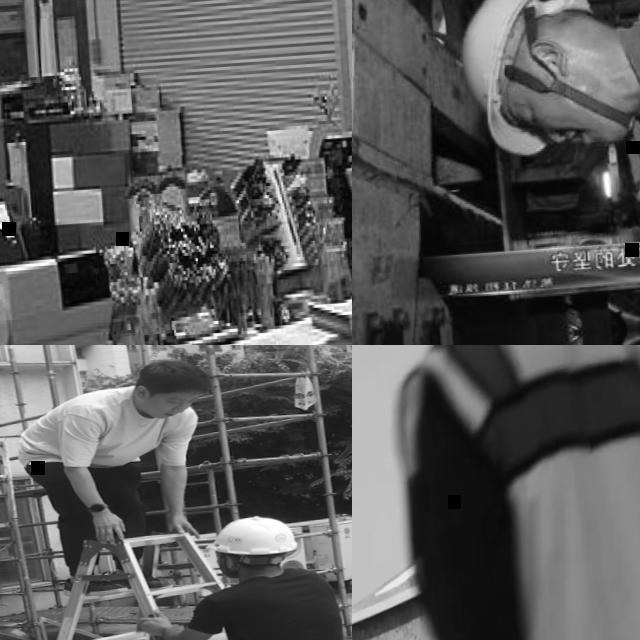Weapon: (12, 358, 212, 572)
objects: (433, 0, 640, 215), (212, 493, 334, 581)
